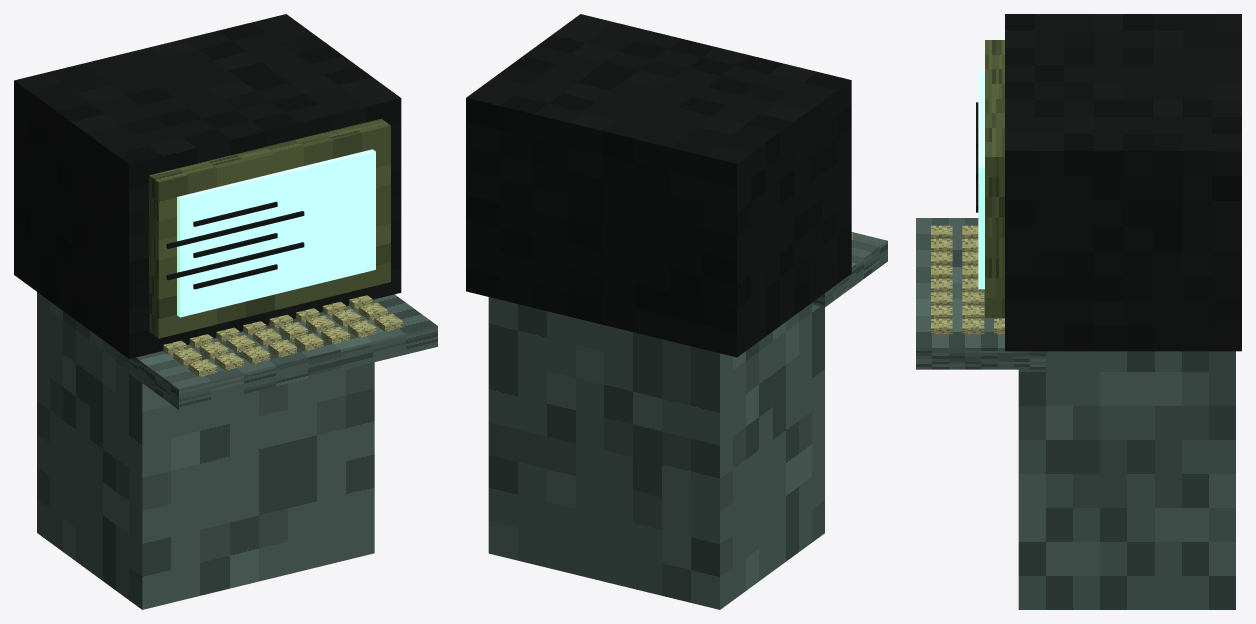
The model's file is terminal.glb.
3 renders of one model, left to right at view 1: azimuth 30°, elevation 25°; view 2: azimuth 150°, elevation 25°; view 3: azimuth 270°, elevation 25°, orthographic. The views are drawn at different scales.
Visible parts, largest first — view 1: Terminal base, Monitor housing, Screen, Screen bezel, Keyboard tray, Display line.003, Display line.001; view 2: Monitor housing, Terminal base, Keyboard tray; view 3: Monitor housing, Terminal base, Keyboard tray, Screen bezel, Screen.
Boxes of the visible parts, x1,y1,x2,y2 form: Terminal base: [37, 292, 374, 609]; Monitor housing: [14, 14, 401, 358]; Screen: [177, 149, 375, 317]; Screen bezel: [149, 118, 390, 338]; Keyboard tray: [115, 294, 437, 409]; Display line.003: [166, 242, 304, 280]; Display line.001: [166, 211, 304, 248]; Monitor housing: [466, 14, 851, 357]; Terminal base: [488, 297, 824, 609]; Keyboard tray: [811, 232, 887, 307]; Monitor housing: [1005, 14, 1241, 351]; Terminal base: [1018, 351, 1235, 609]; Keyboard tray: [916, 218, 1046, 369]; Screen bezel: [985, 40, 1004, 317]; Screen: [978, 69, 984, 289].
Bounding box in the file's own units: 0.82 × 1.31 × 0.825.
Materials: 5 (4 with a texture image).
